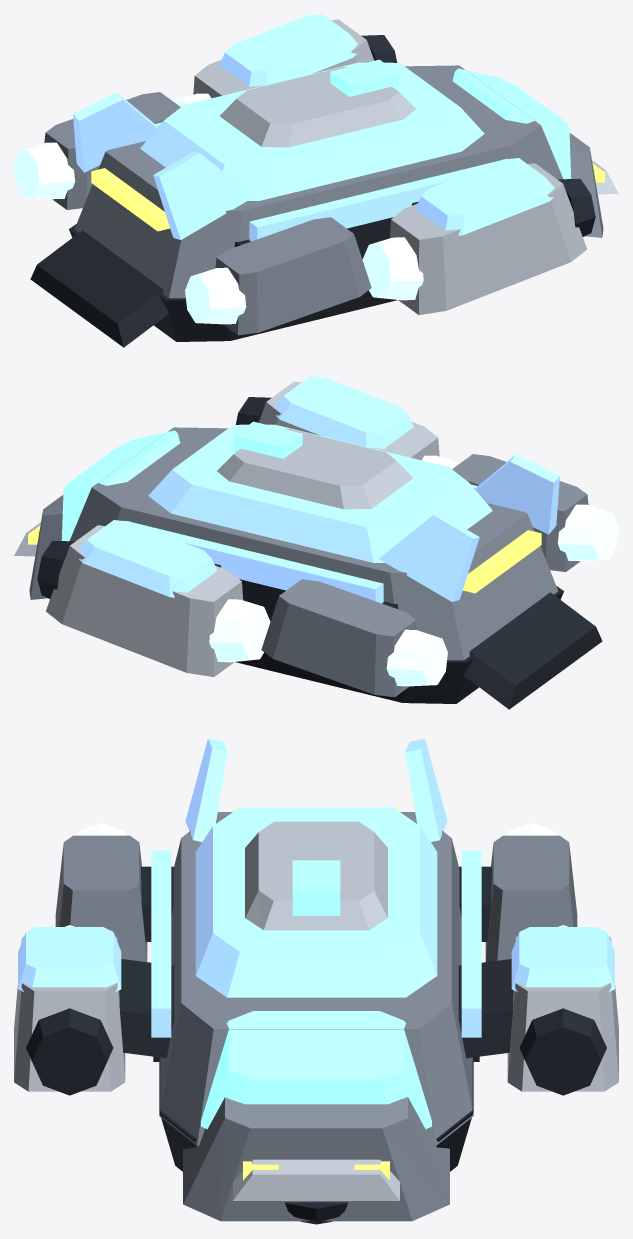
Rendered from rampart_transport.glb.
The picture shows the model from 3 angles, top to bottom: view 1: azimuth 30°, elevation 25°; view 2: azimuth 150°, elevation 25°; view 3: azimuth 270°, elevation 25°; orthographic projection. The views are drawn at different scales.
Visible parts, largest first — view 1: Surf_TEAM, Surf_hull, Surf_light, Surf_dark, Surf_GLOW, Surf_glass, Surf_amber; view 2: Surf_TEAM, Surf_hull, Surf_light, Surf_dark, Surf_GLOW, Surf_glass, Surf_amber; view 3: Surf_hull, Surf_TEAM, Surf_light, Surf_dark, Surf_glass, Surf_GLOW.
Boxes of the visible parts, x1,y1,x2,y2 form: Surf_TEAM: [73, 14, 554, 241]; Surf_hull: [44, 65, 603, 335]; Surf_light: [193, 19, 618, 314]; Surf_dark: [30, 35, 595, 347]; Surf_GLOW: [14, 93, 423, 324]; Surf_glass: [330, 59, 571, 179]; Surf_amber: [91, 163, 604, 231]; Surf_TEAM: [78, 376, 559, 603]; Surf_hull: [29, 427, 588, 697]; Surf_light: [14, 381, 439, 676]; Surf_dark: [37, 397, 602, 709]; Surf_GLOW: [209, 455, 618, 686]; Surf_glass: [61, 421, 302, 541]; Surf_amber: [28, 525, 541, 593]; Surf_hull: [55, 812, 577, 1221]; Surf_TEAM: [18, 738, 614, 1037]; Surf_light: [14, 821, 618, 1200]; Surf_dark: [26, 866, 606, 1224]; Surf_glass: [201, 860, 431, 1129]; Surf_GLOW: [65, 823, 567, 926].
Size of the model in its own units: 3.71 by 1.29 by 3.04.
